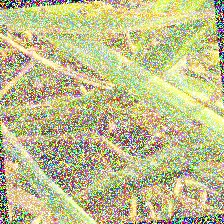Bacterial_Leaf_Blight: (189, 117, 207, 130), (75, 6, 90, 17), (36, 7, 49, 15), (57, 201, 66, 212), (118, 61, 131, 68)
